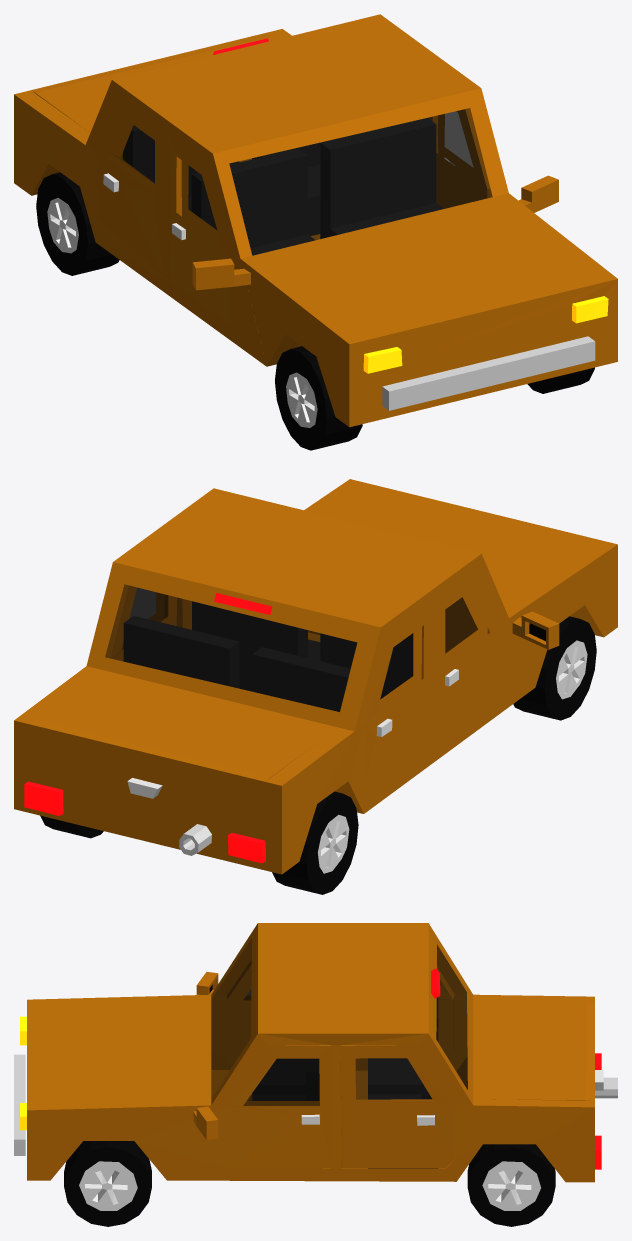
Rendered from car.glb.
3 renders of one model, top to bottom at view 1: azimuth 30°, elevation 25°; view 2: azimuth 150°, elevation 25°; view 3: azimuth 270°, elevation 25°, orthographic. The views are drawn at different scales.
Parts seen in each view (by area): view 1: Cube001, Cube001_2, FrontHatch, Cube001_1, Cube010, Cube002, FrontBumber, Cube005, Cylinder002_1, Cylinder003_1, Cube003, Cube001_3 (+8 smaller); view 2: Cube001, Cube005, Cube001_2, Cube001_1, FrontHatch, Cube010, Cube002, Cylinder003_1, Cylinder002_1, Cube001_4, Cube012, Cylinder002 (+7 smaller); view 3: Cube001, FrontHatch, Cube005, Cube012, Cube003, Cube001_2, Cube001_1, Cylinder001_1, Cylinder004_1, Cube003_1, Cube012_1, Cylinder001 (+7 smaller).
Boxes of the visible parts, x1,y1,x2,y2 form: Cube001: (14, 14, 617, 427); Cube001_2: (229, 108, 492, 255); FrontHatch: (267, 206, 592, 334); Cube001_1: (123, 118, 443, 255); Cube010: (96, 99, 163, 276); Cube002: (169, 136, 231, 326); FrontBumber: (382, 336, 595, 410); Cube005: (31, 32, 276, 132); Cylinder002_1: (275, 346, 362, 450); Cylinder003_1: (36, 172, 119, 275); Cube003: (428, 108, 492, 208); Cube001_3: (363, 296, 608, 373); Cube001: (14, 479, 617, 874); Cube005: (28, 677, 326, 828); Cube001_2: (105, 584, 466, 711); Cube001_1: (123, 601, 413, 711); FrontHatch: (322, 489, 593, 605); Cube010: (365, 604, 432, 793); Cube002: (438, 573, 499, 744); Cylinder003_1: (272, 791, 358, 894); Cylinder002_1: (513, 616, 596, 720); Cube001_4: (24, 593, 272, 863); Cube012: (105, 584, 176, 661); Cylinder002: (556, 640, 587, 699); Cube001: (27, 923, 594, 1182); FrontHatch: (40, 1002, 195, 1103); Cube005: (489, 1002, 594, 1100); Cube012: (340, 1045, 454, 1168); Cube003: (227, 1045, 331, 1168); Cube001_2: (211, 938, 467, 1097); Cube001_1: (252, 997, 438, 1168); Cylinder001_1: (64, 1141, 151, 1226); Cylinder004_1: (467, 1144, 555, 1226); Cube003_1: (243, 1058, 319, 1105); Cube012_1: (355, 1058, 431, 1099); Cylinder001: (79, 1161, 137, 1210).
Bounding box in the file's own units: 6.76 × 4.06 × 11.53.
